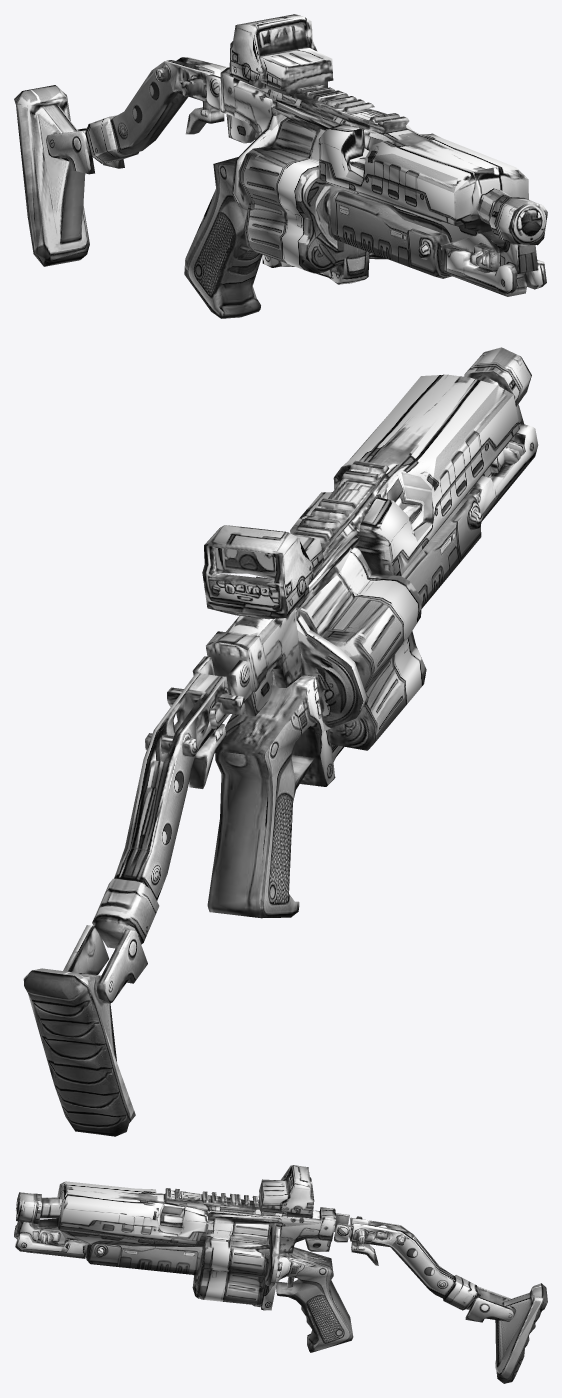
3 views of the same model, one above another, from view 1: azimuth 30°, elevation 25°; view 2: azimuth 150°, elevation 25°; view 3: azimuth 270°, elevation 25° (orthographic). The views are drawn at different scales.
Parts seen in each view (by area): view 1: gun; view 2: gun; view 3: gun.
Boxes of the visible parts, x1,y1,x2,y2 form: gun: (14, 14, 547, 318); gun: (23, 347, 538, 1136); gun: (14, 1165, 547, 1383).
Bounding box in the file's own units: 0.4443 × 1.18 × 2.6.
Materials: 3 (3 with a texture image).
